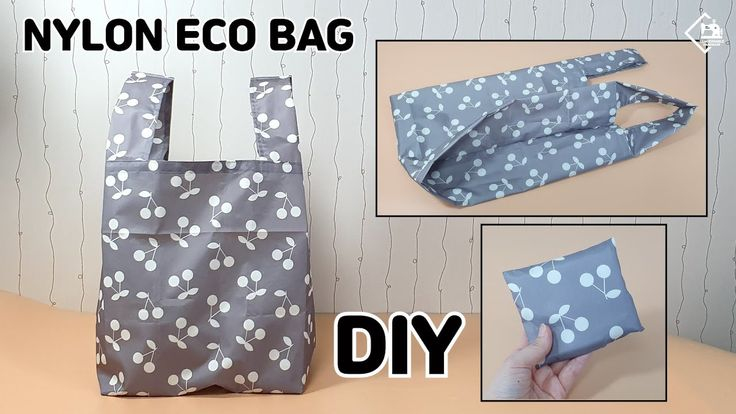nylon: (96, 47, 693, 397)
